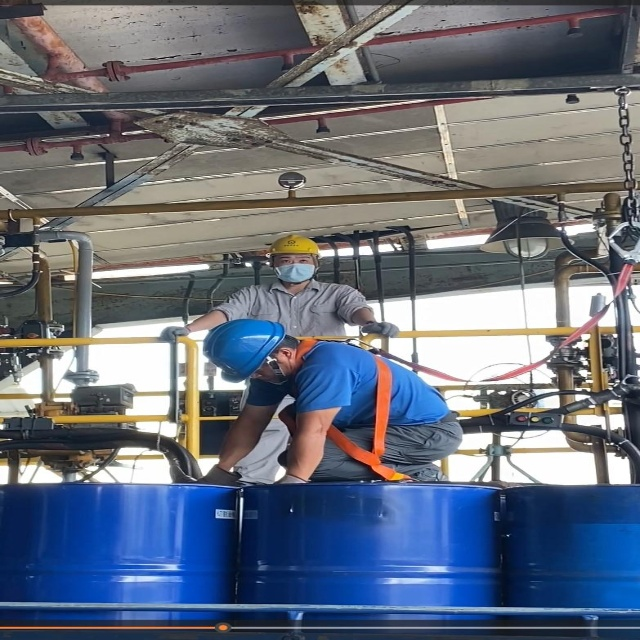Arnes_seguridad: (278, 336, 419, 486)
